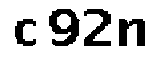2: (83, 3, 112, 51)
9: (46, 5, 81, 49)
c: (13, 15, 37, 49)
n: (116, 14, 148, 49)
